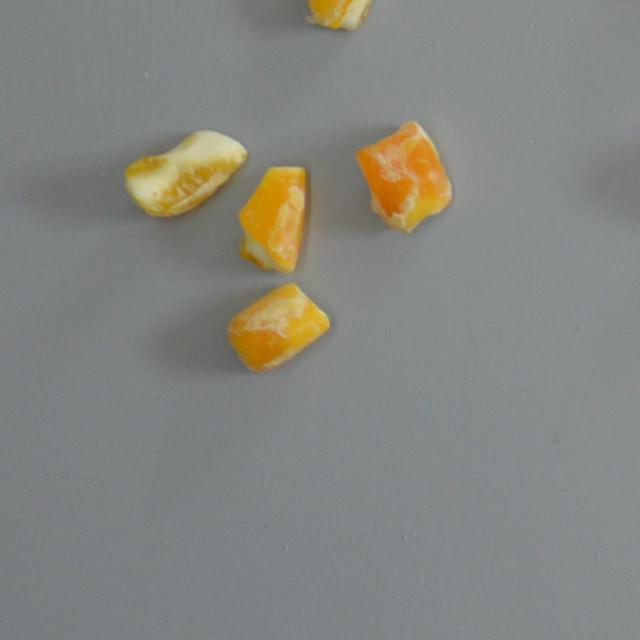dañado: (353, 121, 452, 232)
pelicula: (122, 128, 248, 218), (232, 162, 320, 273), (225, 282, 331, 372), (298, 0, 386, 36)
